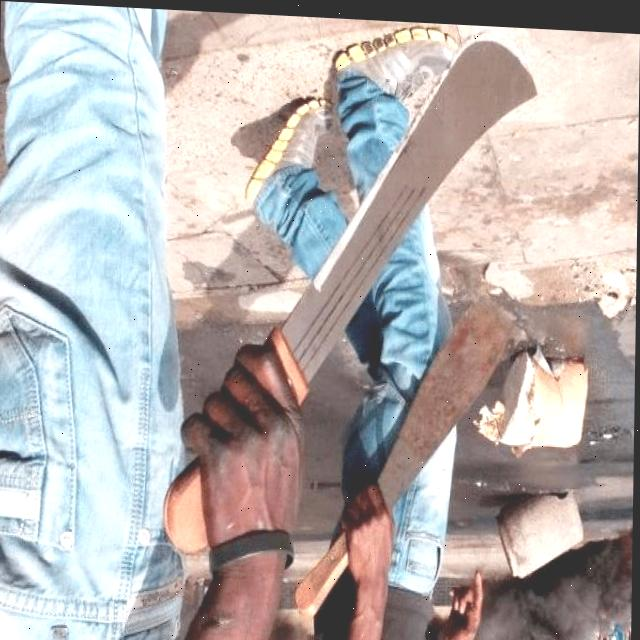long knife: (163, 7, 550, 568)
